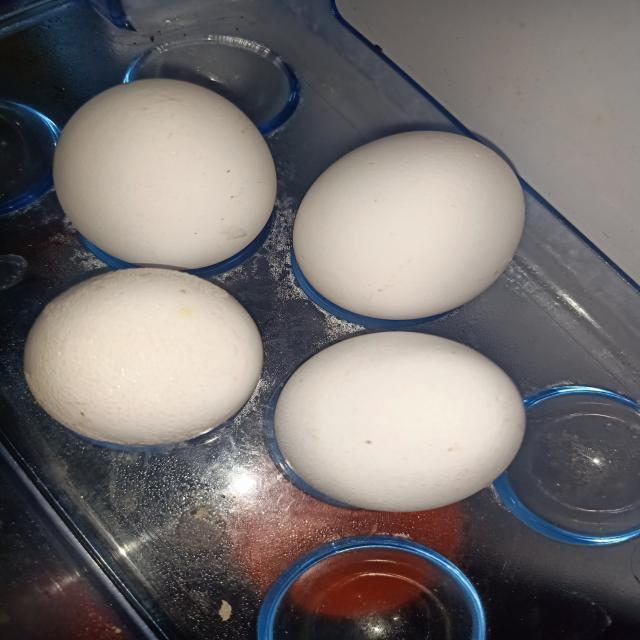Egg: (274, 332, 525, 512), (293, 130, 525, 320), (52, 78, 276, 270), (23, 268, 262, 446)
